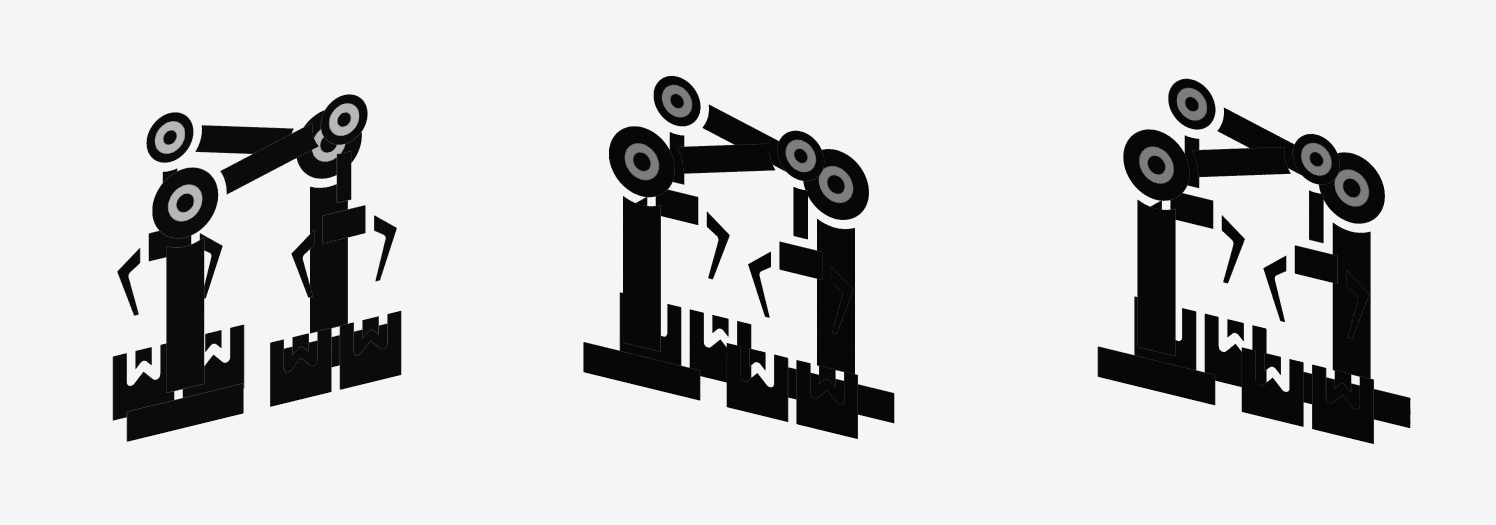
File: Miniscene9_Crane Icon.fbx
3 views of the same model, side by side, from view 1: azimuth 30°, elevation 25°; view 2: azimuth 150°, elevation 25°; view 3: azimuth 330°, elevation 25° (orthographic).
Parts seen in each view (by area): view 1: Model; view 2: Model; view 3: Model.
Part boxes in pixels (<box>): Model: <box>112,94,401,441</box>; Model: <box>583,75,894,438</box>; Model: <box>1097,78,1410,443</box>.
Bounding box in the file's own units: 99.86 × 99.86 × 9.81.
